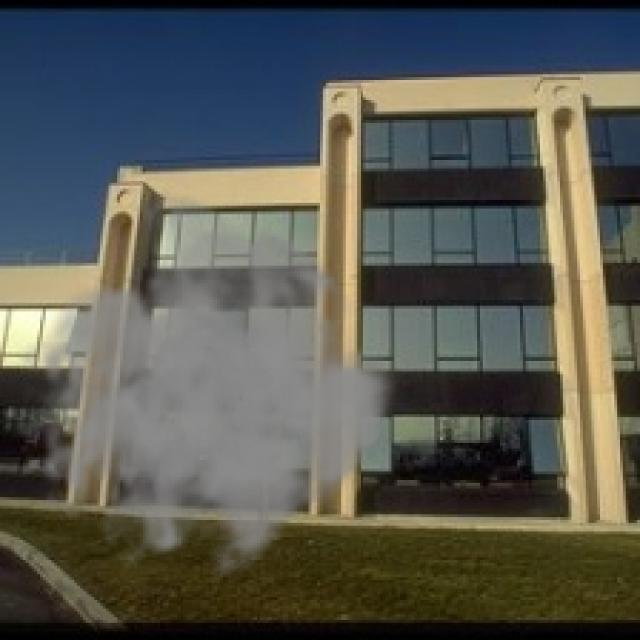Smoke: (17, 188, 400, 594)
